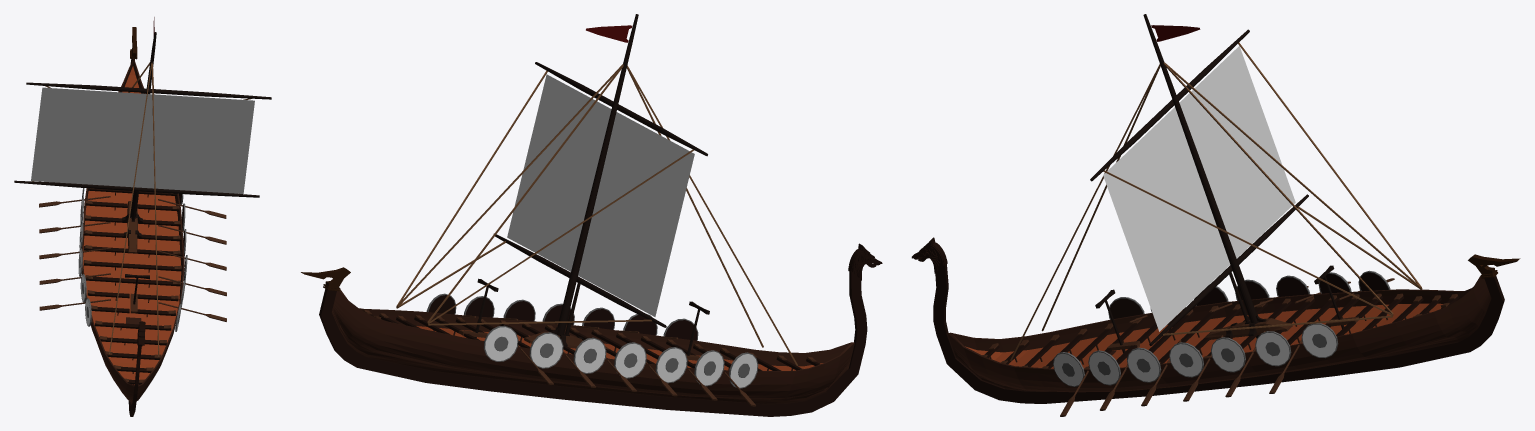
File: Viking_ship.obj
The picture shows the model from 3 angles, left to right: view 1: azimuth 30°, elevation 25°; view 2: azimuth 150°, elevation 25°; view 3: azimuth 270°, elevation 25°; orthographic projection. The views are drawn at different scales.
Parts seen in each view (by area): view 1: Cylinder.043_Cylinder.088, Deck_Circle.003, Cube.003, Cylinder.042_Cylinder.087, Circle, Cylinder.001_Cylinder, Plane.001, Cylinder.021_Cylinder.066, Cube.004, Cylinder.025_Cylinder.070, Cylinder_Cylinder.086, Cube.010_Cube.005 (+1 smaller); view 2: Cylinder.043_Cylinder.088, Circle, Circle.002, Cylinder.025_Cylinder.070, Plane.001, Cylinder.021_Cylinder.066, Cylinder_Cylinder.086, Cube.003, Cylinder.042_Cylinder.087, Cylinder.001_Cylinder, Deck_Circle.003, Cube.004 (+2 smaller); view 3: Cylinder.043_Cylinder.088, Circle, Circle.002, Cylinder.025_Cylinder.070, Plane.001, Deck_Circle.003, Cube.003, Cylinder.021_Cylinder.066, Cylinder_Cylinder.086, Cylinder.042_Cylinder.087, Cylinder.001_Cylinder, Cube.004 (+3 smaller).
Part boxes in pixels (x1,y1,x2,y2): Cylinder.043_Cylinder.088: (31, 87, 254, 193); Deck_Circle.003: (83, 66, 181, 384); Cube.003: (84, 188, 181, 384); Cylinder.042_Cylinder.087: (14, 82, 271, 197); Circle: (81, 58, 184, 403); Cylinder.001_Cylinder: (39, 196, 226, 321); Plane.001: (32, 62, 251, 356); Cylinder.021_Cylinder.066: (78, 188, 187, 331); Cube.004: (84, 188, 181, 383); Cylinder.025_Cylinder.070: (79, 194, 185, 330); Cylinder_Cylinder.086: (130, 32, 156, 220); Cube.010_Cube.005: (127, 201, 137, 253); Cylinder.043_Cylinder.088: (507, 74, 694, 316); Circle: (332, 289, 854, 403); Circle.002: (319, 271, 867, 416); Cylinder.025_Cylinder.070: (428, 295, 757, 387); Plane.001: (396, 64, 797, 365); Cylinder.021_Cylinder.066: (426, 293, 758, 388); Cylinder_Cylinder.086: (557, 14, 638, 334); Cube.003: (369, 314, 819, 371); Cylinder.042_Cylinder.087: (495, 62, 707, 327); Cylinder.001_Cylinder: (461, 315, 755, 406); Deck_Circle.003: (416, 326, 823, 370); Cube.004: (363, 310, 819, 370); Cylinder.043_Cylinder.088: (1103, 46, 1295, 331); Circle: (947, 276, 1491, 392); Circle.002: (933, 264, 1504, 403); Cylinder.025_Cylinder.070: (1054, 272, 1388, 385); Plane.001: (1010, 42, 1422, 360); Deck_Circle.003: (965, 303, 1442, 368); Cube.003: (984, 295, 1458, 368); Cylinder.021_Cylinder.066: (1053, 270, 1390, 386); Cylinder_Cylinder.086: (1143, 14, 1259, 338); Cylinder.042_Cylinder.087: (1090, 29, 1308, 345); Cylinder.001_Cylinder: (1060, 278, 1394, 416); Cube.004: (982, 293, 1457, 368).
Bounding box in the file's own units: 0.6101 × 0.8473 × 1.07.
